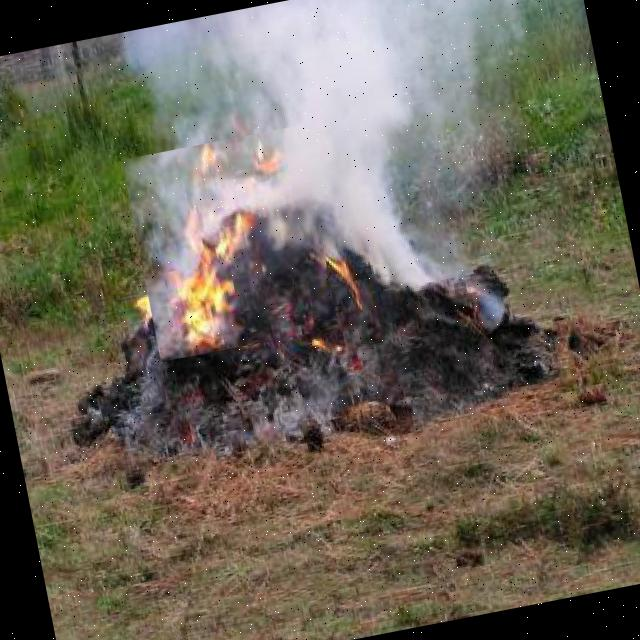fire: (122, 125, 339, 362)
